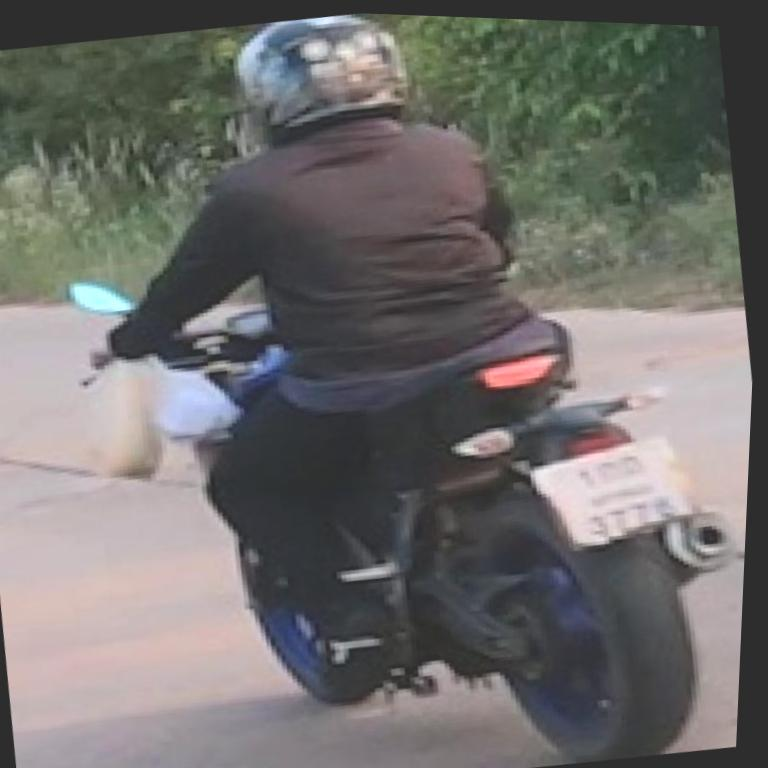license plate: (533, 438, 692, 544)
